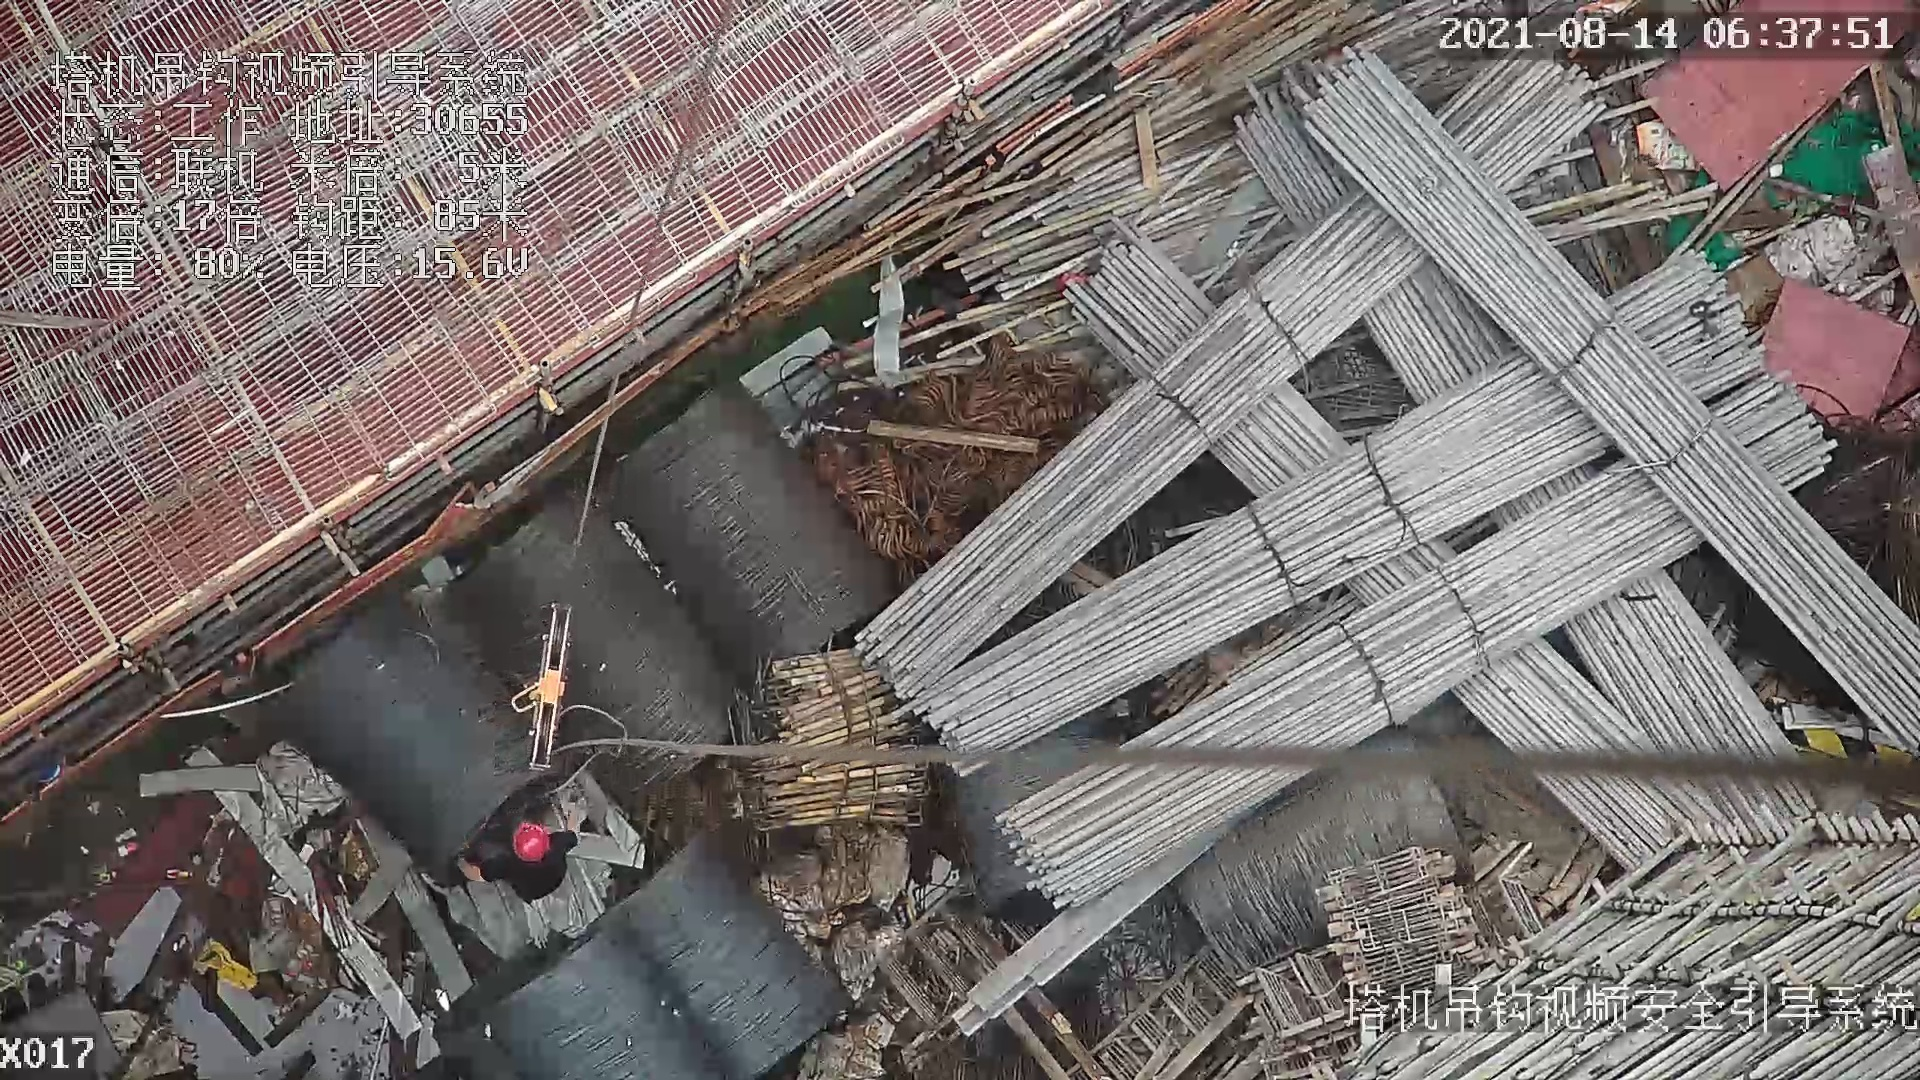helmet: (504, 823, 555, 865)
hook: (510, 599, 579, 774)
person: (458, 800, 585, 904)
scaffold: (878, 51, 1917, 797), (745, 626, 918, 860)
